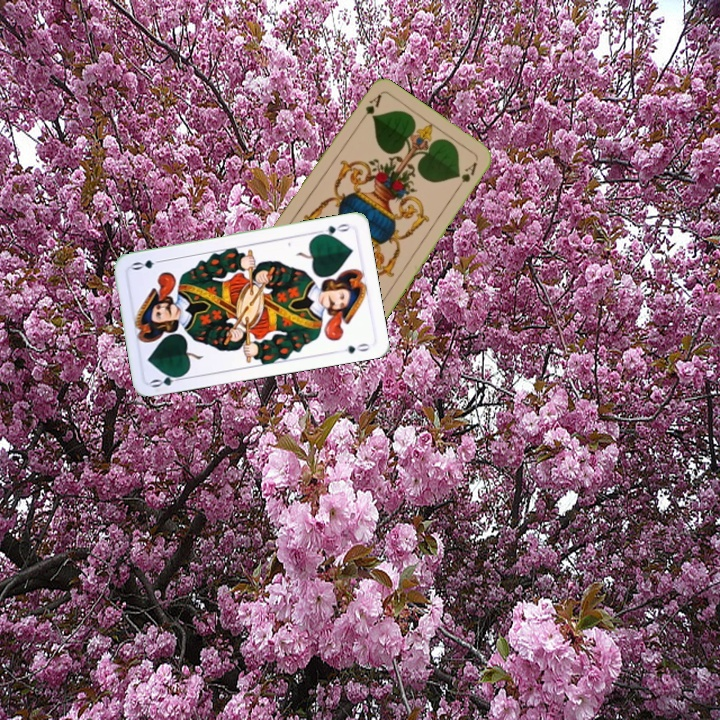GA: (355, 90, 384, 126)
GO: (147, 370, 188, 390), (313, 219, 353, 239)
